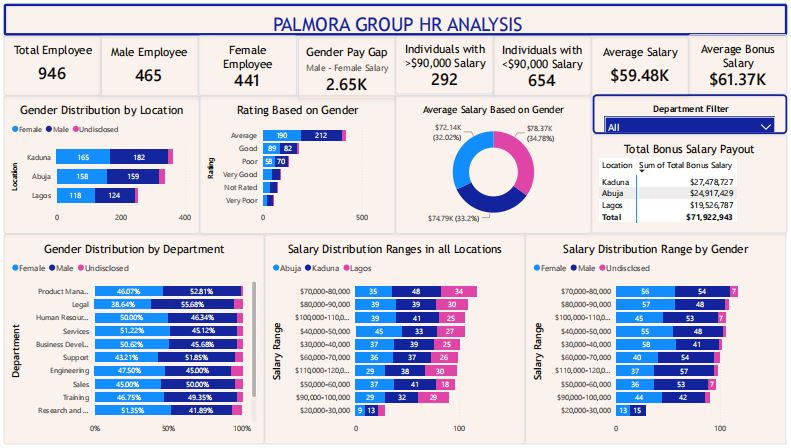

The page's visual inventory and layout, read from the dashboard file:
{"tool":"powerbi","page":{"name":"Palmora DASHBOARD","canvas":[1280,720],"ordinal":0},"visuals":[{"type":"barChart","title":"Gender Distribution by Location","fields":{"Category":["PALMORIA.Location"],"Y":["CountNonNull(PALMORIA.Gender)"],"Series":["PALMORIA.Gender"]},"box":[0,150,320,226],"z":0},{"type":"hundredPercentStackedBarChart","title":"Gender Distribution by Department","fields":{"Category":["PALMORIA.Department"],"Y":["CountNonNull(PALMORIA.Gender)"],"Series":["PALMORIA.Gender"]},"box":[0,376,426,344],"z":1000},{"type":"barChart","title":"Rating Based on Gender","fields":{"Category":["PALMORIA.Rating"],"Y":["CountNonNull(PALMORIA.Gender)"],"Series":["PALMORIA.Gender"]},"box":[320,150,320,226],"z":2000},{"type":"card","title":"Total Employee","fields":{"Values":["CountNonNull(PALMORIA.Name)"]},"box":[0,52,160,98],"z":3000},{"type":"donutChart","title":"Average Salary Based on Gender","fields":{"Y":["Avg(PALMORIA.Salary)"],"Category":["PALMORIA.Gender"]},"box":[640,150,320,226],"z":4000},{"type":"card","title":"Gender Pay Gap","fields":{"Values":["PALMORIA.Measure"]},"box":[480.9,53.6,159.1,101.9],"z":5000},{"type":"card","title":"Individuals with >$90,000 Salary","fields":{"Values":["CountNonNull(PALMORIA.Salary Range)"]},"box":[640,50.1,160.9,98.3],"z":6000},{"type":"card","title":"Individuals with <$90,000 Salary","fields":{"Values":["CountNonNull(PALMORIA.Salary Range)"]},"box":[799.1,51.8,160.9,98.3],"z":7000},{"type":"shape","title":"PALMORA GROUP HR ANALYSIS","box":[0,0,1280,51.8],"z":8000},{"type":"pivotTable","title":"Total Bonus Salary Payout","fields":{"Rows":["PALMORIA.Location"],"Values":["Sum(PALMORIA.Total Bonus Pay)"]},"box":[960,212.7,320,162.7],"z":9000},{"type":"barChart","title":"Salary Distribution Ranges in all Locations","fields":{"Category":["PALMORIA.Salary Range"],"Y":["CountNonNull(PALMORIA.Name)"],"Series":["PALMORIA.Location"]},"box":[426,376,426,344],"z":10000},{"type":"card","title":"Average Salary","fields":{"Values":["Avg(PALMORIA.Salary)"]},"box":[960,53.6,159.1,98.3],"z":11000},{"type":"card","title":"Average Bonus Salary","fields":{"Values":["Avg(PALMORIA.Total Bonus Pay)"]},"box":[1119.1,50.1,160.9,98.3],"z":12000},{"type":"barChart","title":"Salary Distribution Range  by Gender","fields":{"Category":["PALMORIA.Salary Range"],"Y":["CountNonNull(PALMORIA.Name)"],"Series":["PALMORIA.Gender"]},"box":[852.2,376.2,426.1,343.8],"z":13000},{"type":"card","title":"Female Employee","fields":{"Values":["CountNonNull(PALMORIA.Gender)"]},"box":[318.2,51.8,160.9,98.3],"z":14000},{"type":"card","title":"Male Employee","fields":{"Values":["CountNonNull(PALMORIA.Gender)"]},"box":[157.3,53.6,160.9,98.3],"z":15000},{"type":"slicer","title":"Department Filter","fields":{"Values":["PALMORIA.Department"]},"box":[961.8,148.4,318.2,64.4],"z":15001}]}

Visuals, with their boxes in screenshot pixels (x1, y1, x2, y2), scaled from the page's 1280x720 canvas onto the 791x448 screenshot:
"Gender Distribution by Location" barChart: left=0, top=93, right=198, bottom=234
"Gender Distribution by Department" hundredPercentStackedBarChart: left=0, top=234, right=263, bottom=447
"Rating Based on Gender" barChart: left=198, top=93, right=396, bottom=234
"Total Employee" card: left=0, top=32, right=99, bottom=93
"Average Salary Based on Gender" donutChart: left=396, top=93, right=593, bottom=234
"Gender Pay Gap" card: left=297, top=33, right=396, bottom=97
"Individuals with >$90,000 Salary" card: left=396, top=31, right=495, bottom=92
"Individuals with <$90,000 Salary" card: left=494, top=32, right=593, bottom=93
"PALMORA GROUP HR ANALYSIS" shape: left=0, top=0, right=790, bottom=32
"Total Bonus Salary Payout" pivotTable: left=593, top=132, right=790, bottom=234
"Salary Distribution Ranges in all Locations" barChart: left=263, top=234, right=527, bottom=447
"Average Salary" card: left=593, top=33, right=692, bottom=95
"Average Bonus Salary" card: left=692, top=31, right=790, bottom=92
"Salary Distribution Range  by Gender" barChart: left=527, top=234, right=790, bottom=447
"Female Employee" card: left=197, top=32, right=296, bottom=93
"Male Employee" card: left=97, top=33, right=197, bottom=95
"Department Filter" slicer: left=594, top=92, right=790, bottom=132
